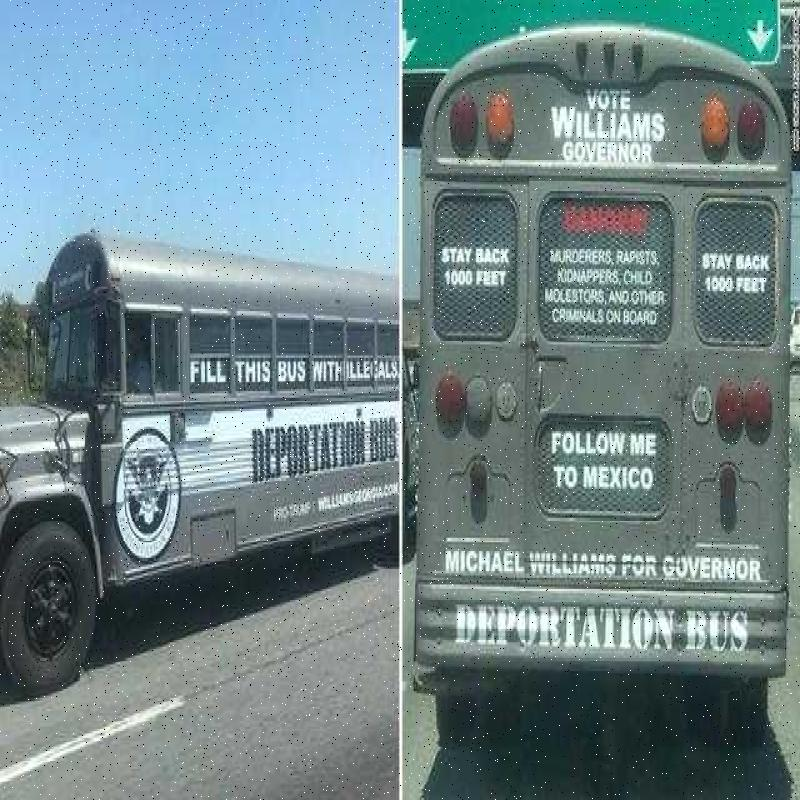bus: (424, 29, 800, 700), (4, 217, 400, 674)
